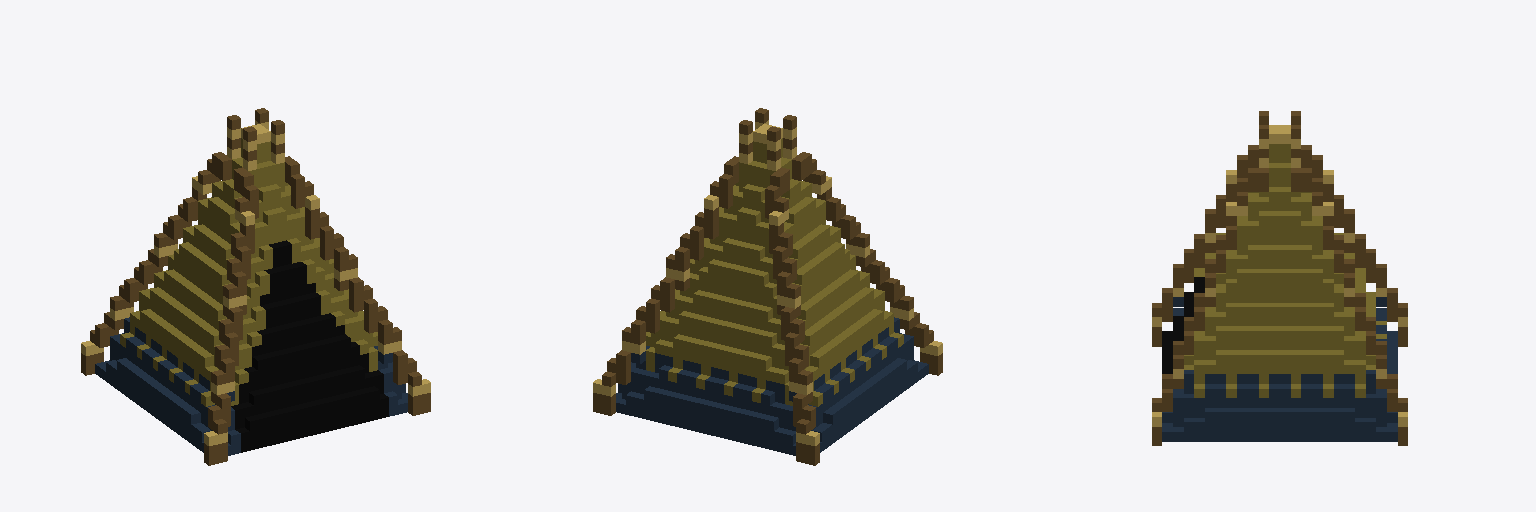
The picture shows the model from 3 angles: view 1: azimuth 30°, elevation 25°; view 2: azimuth 150°, elevation 25°; view 3: azimuth 270°, elevation 25°; orthographic projection.
Visible parts, largest first — view 1: tent2; view 2: tent2; view 3: tent2.
Boxes of the visible parts, x1,y1,x2,y2 form: tent2: [81, 108, 430, 465]; tent2: [593, 108, 942, 465]; tent2: [1152, 111, 1407, 445].
Bounding box in the file's own units: 24 × 28 × 24.
Materials: 1 (1 with a texture image).